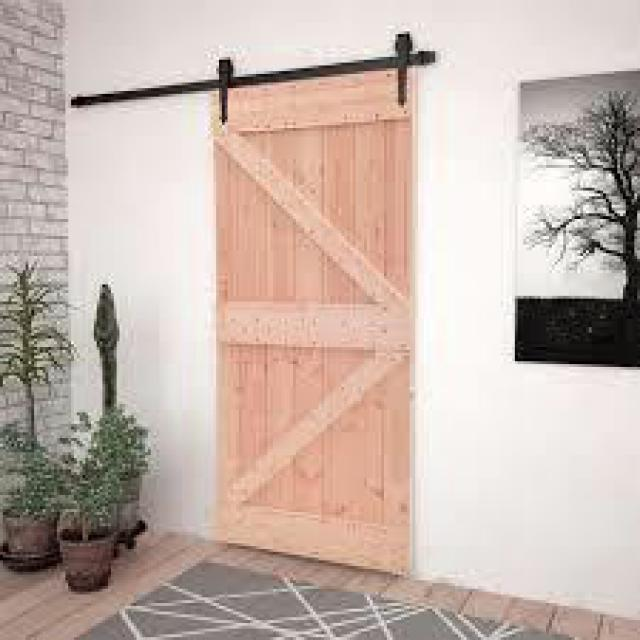door: (200, 49, 431, 587)
